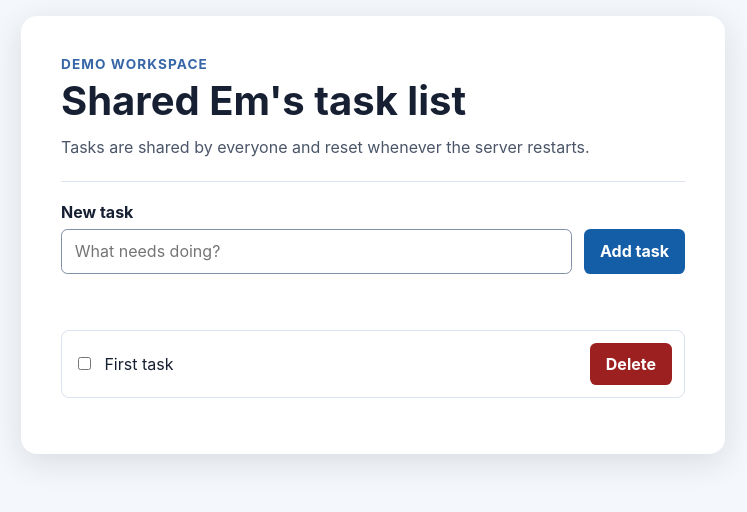
Test: App › preserves displayed state and form text after failed mutations
Expected: the text "First task" is shown, left=104, top=354, right=173, bottom=374
Type "Stay here" into the field labelled "New task" at (316, 251), box left=61, top=229, right=572, bottom=274
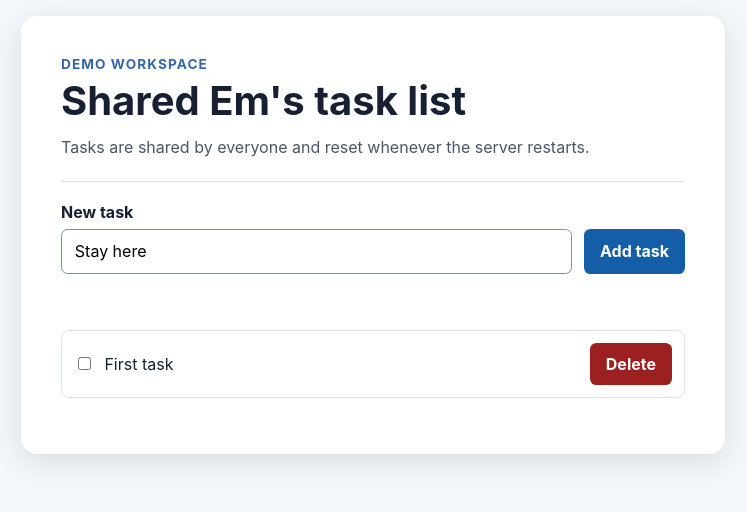
Click the button "Add task" at (634, 251), box left=584, top=229, right=685, bottom=274
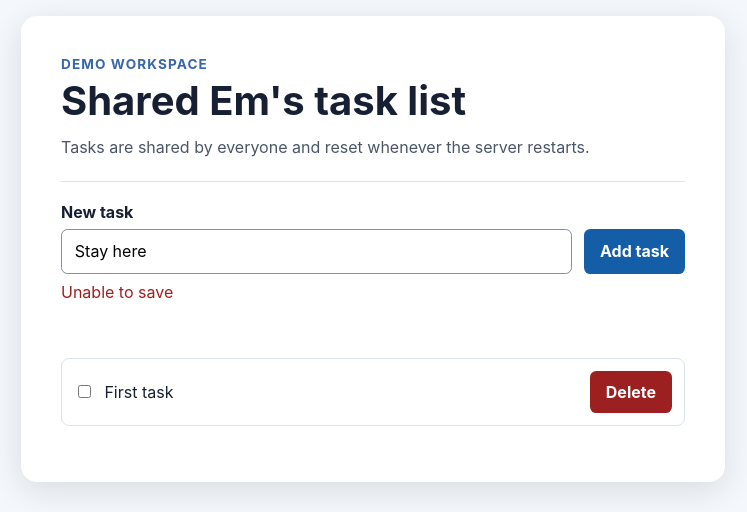
Result: the text "Unable to save" is shown at left=61, top=282, right=173, bottom=302
Click the checkbox labelled "First task" at (84, 392), box left=78, top=385, right=91, bottom=398
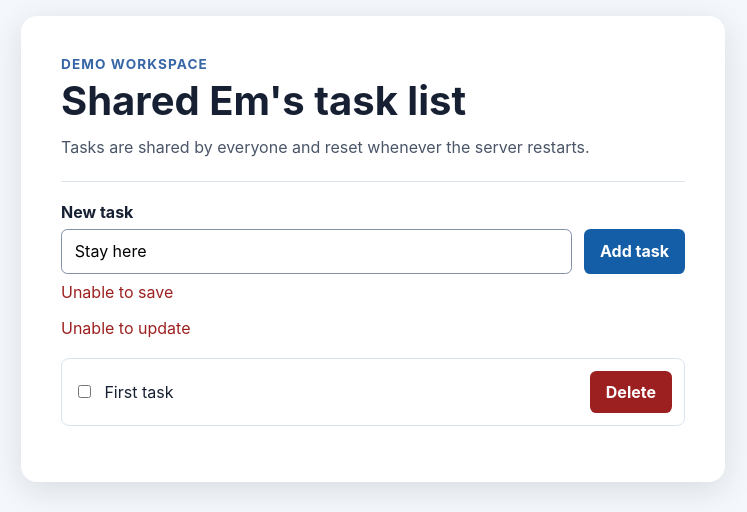
Result: the text "Unable to update" is shown at left=61, top=318, right=190, bottom=338
